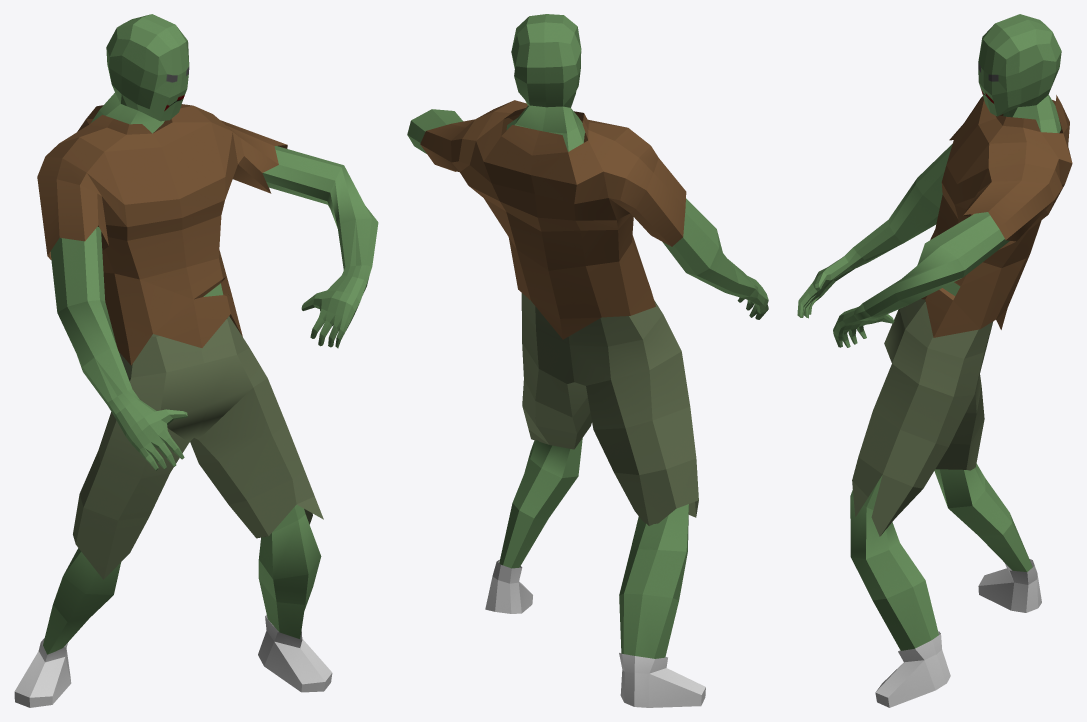
File: ZombieDead(4).obj
3 views of the same model, side by side, from view 1: azimuth 30°, elevation 25°; view 2: azimuth 150°, elevation 25°; view 3: azimuth 270°, elevation 25° (orthographic). The views are drawn at different scales.
Parts seen in each view (by area): view 1: Object001; view 2: Object001; view 3: Object001.
Part boxes in pixels (<box>): Object001: <box>14,14,378,707</box>; Object001: <box>407,14,768,707</box>; Object001: <box>797,14,1072,707</box>.
Bounding box in the file's own units: 28.9 × 57.53 × 22.68.
